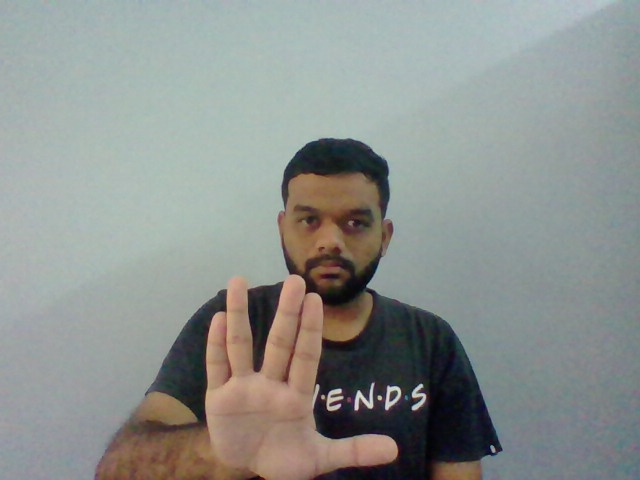Live long and prosper: (203, 273, 400, 480)
